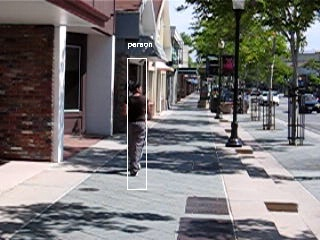person: (121, 82, 152, 177), (120, 82, 151, 177), (122, 82, 153, 177), (121, 81, 152, 176), (121, 83, 152, 178)
target_negative: (205, 23, 261, 69), (244, 124, 285, 178), (281, 4, 298, 134), (72, 210, 198, 215), (130, 227, 215, 234), (13, 230, 95, 237)
